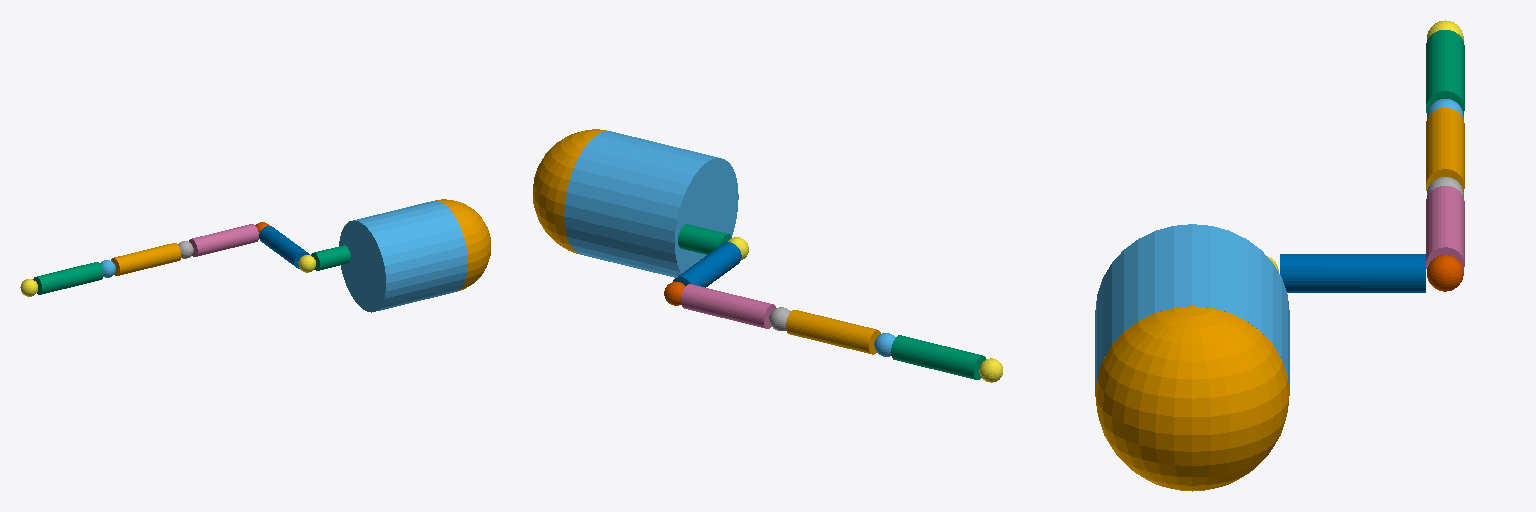
URDF robot description (sentinel/octopus_1_arms_3_segments):
<?xml version="1.0"?>
<robot name="sentinel/octopus_1_arms_3_segments">
<link name="eye">
  <inertial>
   <mass value="1"/>
   <inertia ixx="0.004000000000000001" ixy="0" ixz="0" iyy="0.004000000000000001" iyz="0" izz="0.004000000000000001"/>
  </inertial>
  <collision>
    <origin rpy="0 0 0" xyz="0 0 0"/>
    <geometry>
      <sphere radius="0.1"/>
    </geometry>
  </collision>
  <visual>
    <origin rpy="0 0 0" xyz="0 0 0"/>
    <geometry>
      <sphere radius="0.1"/>
    </geometry>
  </visual>
</link>

 <link name="head">
  <inertial>
    <mass value="1"/>
    <inertia ixx="0.0058333333333333345" ixy="0" ixz="0" iyy="0.0058333333333333345" iyz="0" izz="0.0025000000000000005"/>
  </inertial>
  <visual>
    <origin rpy="0 1.57 0" xyz="-0.1 0 0"/>
    <geometry>
      <cylinder length="0.2" radius="0.1"/>
    </geometry>
  </visual>
  <collision>
    <origin rpy="0 1.57 0" xyz="-0.1 0 0"/>
    <geometry>
      <cylinder length="0.2" radius="0.1"/>
    </geometry>
  </collision>
 </link>

<joint name="joint_fixed_eye_head" type="fixed">
  <origin rpy="0 0 0" xyz="0 0 0"/>
  <parent link="eye"/>
  <child link="head"/>
</joint>

<!--############################################################################
branch_00
##############################################################################-->
 <link name="branch_00_cylinder_stub">
  <inertial>
    <mass value="1"/>
    <inertia ixx="0.0005687499999999999" ixy="0" ixz="0" iyy="0.0005687499999999999" iyz="0" izz="0.0001"/>
  </inertial>
  <visual>
    <origin rpy="0 1.57 0" xyz="-0.0375 0 0"/>
    <geometry>
      <cylinder length="0.075" radius="0.02"/>
    </geometry>
  </visual>
  <collision>
    <origin rpy="0 1.57 0" xyz="-0.0375 0 0"/>
    <geometry>
      <cylinder length="0.075" radius="0.02"/>
    </geometry>
  </collision>
 </link>

<joint name="joint_fixed_head_branch_00_cylinder_stub" type="fixed">
  <origin rpy="0 0 0" xyz="-0.2 0.06999999999999999 0.0"/>
  <parent link="head"/>
  <child link="branch_00_cylinder_stub"/>
</joint>

<link name="branch_00_sphere_stub">
  <inertial>
   <mass value="1"/>
   <inertia ixx="0.00014439999999999999" ixy="0" ixz="0" iyy="0.00014439999999999999" iyz="0" izz="0.00014439999999999999"/>
  </inertial>
  <collision>
    <origin rpy="0 0 0" xyz="-0.095 0 0"/>
    <geometry>
      <sphere radius="0.019"/>
    </geometry>
  </collision>
  <visual>
    <origin rpy="0 0 0" xyz="-0.095 0 0"/>
    <geometry>
      <sphere radius="0.019"/>
    </geometry>
  </visual>
</link>

<joint name="joint_fixed_branch_00_cylinder_stub_branch_00_sphere_stub" type="fixed">
  <origin rpy="0 0 0" xyz="0 0 0"/>
  <parent link="branch_00_cylinder_stub"/>
  <child link="branch_00_sphere_stub"/>
</joint>

 <link name="branch_00_cylinder">
  <inertial>
    <mass value="1"/>
    <inertia ixx="0.0019749999999999998" ixy="0" ixz="0" iyy="0.0019749999999999998" iyz="0" izz="0.0001"/>
  </inertial>
  <visual>
    <origin rpy="0 1.5707963267948966 1.57" xyz="-0.095 0.095 0.0"/>
    <geometry>
      <cylinder length="0.15" radius="0.02"/>
    </geometry>
  </visual>
  <collision>
    <origin rpy="0 1.5707963267948966 1.57" xyz="-0.095 0.095 0.0"/>
    <geometry>
      <cylinder length="0.15" radius="0.02"/>
    </geometry>
  </collision>
 </link>

<joint name="joint_fixed_branch_00_sphere_stub_branch_00_cylinder" type="fixed">
  <origin rpy="0 0 0" xyz="0 0 0"/>
  <parent link="branch_00_sphere_stub"/>
  <child link="branch_00_cylinder"/>
</joint>

<link name="branch_00">
  <inertial>
   <mass value="1"/>
   <inertia ixx="0.00014439999999999999" ixy="0" ixz="0" iyy="0.00014439999999999999" iyz="0" izz="0.00014439999999999999"/>
  </inertial>
  <collision>
    <origin rpy="0 0 0" xyz="0 0 0"/>
    <geometry>
      <sphere radius="0.019"/>
    </geometry>
  </collision>
  <visual>
    <origin rpy="0 0 0" xyz="0 0 0"/>
    <geometry>
      <sphere radius="0.019"/>
    </geometry>
  </visual>
</link>

<joint name="joint_fixed_branch_00_cylinder_branch_00" type="fixed">
  <origin rpy="0 0 0" xyz="-0.095 0.19 0.0"/>
  <parent link="branch_00_cylinder"/>
  <child link="branch_00"/>
</joint>

<!--############################################################################
branch_01
##############################################################################-->
 <link name="branch_01_cylinder">
  <inertial>
    <mass value="1"/>
    <inertia ixx="0.0019749999999999998" ixy="0" ixz="0" iyy="0.0019749999999999998" iyz="0" izz="0.0001"/>
  </inertial>
  <visual>
    <origin rpy="0 1.57 0" xyz="-0.095 0 0"/>
    <geometry>
      <cylinder length="0.15" radius="0.02"/>
    </geometry>
  </visual>
  <collision>
    <origin rpy="0 1.57 0" xyz="-0.095 0 0"/>
    <geometry>
      <cylinder length="0.15" radius="0.02"/>
    </geometry>
  </collision>
 </link>

<joint name="joint_revolute_branch_00_branch_01_cylinder_Z" type="revolute">
  <origin rpy="0 0 0" xyz="0 0 0"/>
  <parent link="branch_00"/>
  <child link="branch_01_cylinder"/>
  <axis xyz="0 0.0 -1.0"/>
  <dynamics damping="0.01" friction="0.5"/>
  <limit lower="-1.5707963267948966" upper="1.5707963267948966" effort="0.01" velocity="100"/>
</joint>

<link name="branch_01">
  <inertial>
   <mass value="1"/>
   <inertia ixx="0.00014439999999999999" ixy="0" ixz="0" iyy="0.00014439999999999999" iyz="0" izz="0.00014439999999999999"/>
  </inertial>
  <collision>
    <origin rpy="0 0 0" xyz="0 0 0"/>
    <geometry>
      <sphere radius="0.019"/>
    </geometry>
  </collision>
  <visual>
    <origin rpy="0 0 0" xyz="0 0 0"/>
    <geometry>
      <sphere radius="0.019"/>
    </geometry>
  </visual>
</link>

<joint name="joint_fixed_branch_01_cylinder_branch_01" type="fixed">
  <origin rpy="0 0 0" xyz="-0.19 0 0"/>
  <parent link="branch_01_cylinder"/>
  <child link="branch_01"/>
</joint>

<!--############################################################################
branch_02
##############################################################################-->
 <link name="branch_02_cylinder">
  <inertial>
    <mass value="1"/>
    <inertia ixx="0.0019749999999999998" ixy="0" ixz="0" iyy="0.0019749999999999998" iyz="0" izz="0.0001"/>
  </inertial>
  <visual>
    <origin rpy="0 1.57 0" xyz="-0.095 0 0"/>
    <geometry>
      <cylinder length="0.15" radius="0.02"/>
    </geometry>
  </visual>
  <collision>
    <origin rpy="0 1.57 0" xyz="-0.095 0 0"/>
    <geometry>
      <cylinder length="0.15" radius="0.02"/>
    </geometry>
  </collision>
 </link>

<joint name="joint_revolute_branch_01_branch_02_cylinder_Z" type="revolute">
  <origin rpy="0 0 0" xyz="0 0 0"/>
  <parent link="branch_01"/>
  <child link="branch_02_cylinder"/>
  <axis xyz="0 0.0 -1.0"/>
  <dynamics damping="0.01" friction="0.5"/>
  <limit lower="-1.5707963267948966" upper="1.5707963267948966" effort="0.01" velocity="100"/>
</joint>

<link name="branch_02">
  <inertial>
   <mass value="1"/>
   <inertia ixx="0.00014439999999999999" ixy="0" ixz="0" iyy="0.00014439999999999999" iyz="0" izz="0.00014439999999999999"/>
  </inertial>
  <collision>
    <origin rpy="0 0 0" xyz="0 0 0"/>
    <geometry>
      <sphere radius="0.019"/>
    </geometry>
  </collision>
  <visual>
    <origin rpy="0 0 0" xyz="0 0 0"/>
    <geometry>
      <sphere radius="0.019"/>
    </geometry>
  </visual>
</link>

<joint name="joint_fixed_branch_02_cylinder_branch_02" type="fixed">
  <origin rpy="0 0 0" xyz="-0.19 0 0"/>
  <parent link="branch_02_cylinder"/>
  <child link="branch_02"/>
</joint>

<!--############################################################################
branch_03
##############################################################################-->
 <link name="branch_03_cylinder">
  <inertial>
    <mass value="1"/>
    <inertia ixx="0.0019749999999999998" ixy="0" ixz="0" iyy="0.0019749999999999998" iyz="0" izz="0.0001"/>
  </inertial>
  <visual>
    <origin rpy="0 1.57 0" xyz="-0.095 0 0"/>
    <geometry>
      <cylinder length="0.15" radius="0.02"/>
    </geometry>
  </visual>
  <collision>
    <origin rpy="0 1.57 0" xyz="-0.095 0 0"/>
    <geometry>
      <cylinder length="0.15" radius="0.02"/>
    </geometry>
  </collision>
 </link>

<joint name="joint_revolute_branch_02_branch_03_cylinder_Z" type="revolute">
  <origin rpy="0 0 0" xyz="0 0 0"/>
  <parent link="branch_02"/>
  <child link="branch_03_cylinder"/>
  <axis xyz="0 0.0 -1.0"/>
  <dynamics damping="0.01" friction="0.5"/>
  <limit lower="-1.5707963267948966" upper="1.5707963267948966" effort="0.01" velocity="100"/>
</joint>

<link name="branch_03">
  <inertial>
   <mass value="1"/>
   <inertia ixx="0.00014439999999999999" ixy="0" ixz="0" iyy="0.00014439999999999999" iyz="0" izz="0.00014439999999999999"/>
  </inertial>
  <collision>
    <origin rpy="0 0 0" xyz="0 0 0"/>
    <geometry>
      <sphere radius="0.019"/>
    </geometry>
  </collision>
  <visual>
    <origin rpy="0 0 0" xyz="0 0 0"/>
    <geometry>
      <sphere radius="0.019"/>
    </geometry>
  </visual>
</link>

<joint name="joint_fixed_branch_03_cylinder_branch_03" type="fixed">
  <origin rpy="0 0 0" xyz="-0.19 0 0"/>
  <parent link="branch_03_cylinder"/>
  <child link="branch_03"/>
</joint>

  <klampt package_root="../../.." default_acc_max="4" >
  </klampt>
</robot>

--- Facts derived from the render (not from the file) ---
Views: 3 orthographic renders of the robot side by side, from view 1: azimuth 30°, elevation 25°; view 2: azimuth 150°, elevation 25°; view 3: azimuth 270°, elevation 25°.
Model sentinel/octopus_1_arms_3_segments with 12 links and 11 joints (3 revolute, 8 fixed), rooted at eye, posed every joint at zero.
Visible links, largest first — view 1: head, eye, branch_01_cylinder, branch_02_cylinder, branch_03_cylinder, branch_00_cylinder, branch_00_cylinder_stub; view 2: head, eye, branch_03_cylinder, branch_01_cylinder, branch_02_cylinder, branch_00_cylinder, branch_00_cylinder_stub; view 3: eye, head, branch_00_cylinder, branch_01_cylinder, branch_03_cylinder, branch_02_cylinder, branch_00.
Boxes of the visible links, <box> form: head: <box>339,200,467,312</box>; eye: <box>436,199,490,291</box>; branch_01_cylinder: <box>189,224,258,256</box>; branch_02_cylinder: <box>111,243,180,275</box>; branch_03_cylinder: <box>33,262,103,294</box>; branch_00_cylinder: <box>259,226,309,268</box>; branch_00_cylinder_stub: <box>311,245,350,270</box>; head: <box>564,131,738,277</box>; eye: <box>533,129,606,253</box>; branch_03_cylinder: <box>891,335,985,379</box>; branch_01_cylinder: <box>681,284,775,328</box>; branch_02_cylinder: <box>786,310,880,354</box>; branch_00_cylinder: <box>673,242,741,287</box>; branch_00_cylinder_stub: <box>678,224,731,254</box>; eye: <box>1095,306,1289,491</box>; head: <box>1095,224,1289,391</box>; branch_00_cylinder: <box>1280,254,1425,292</box>; branch_01_cylinder: <box>1426,186,1464,270</box>; branch_03_cylinder: <box>1426,30,1464,114</box>; branch_02_cylinder: <box>1426,108,1464,192</box>; branch_00: <box>1427,255,1463,291</box>.
Bounding box of the posed robot: 0.984 × 0.38 × 0.2002 m (x, y, z).
Geometry: primitives only (box / cylinder / sphere), no mesh files.